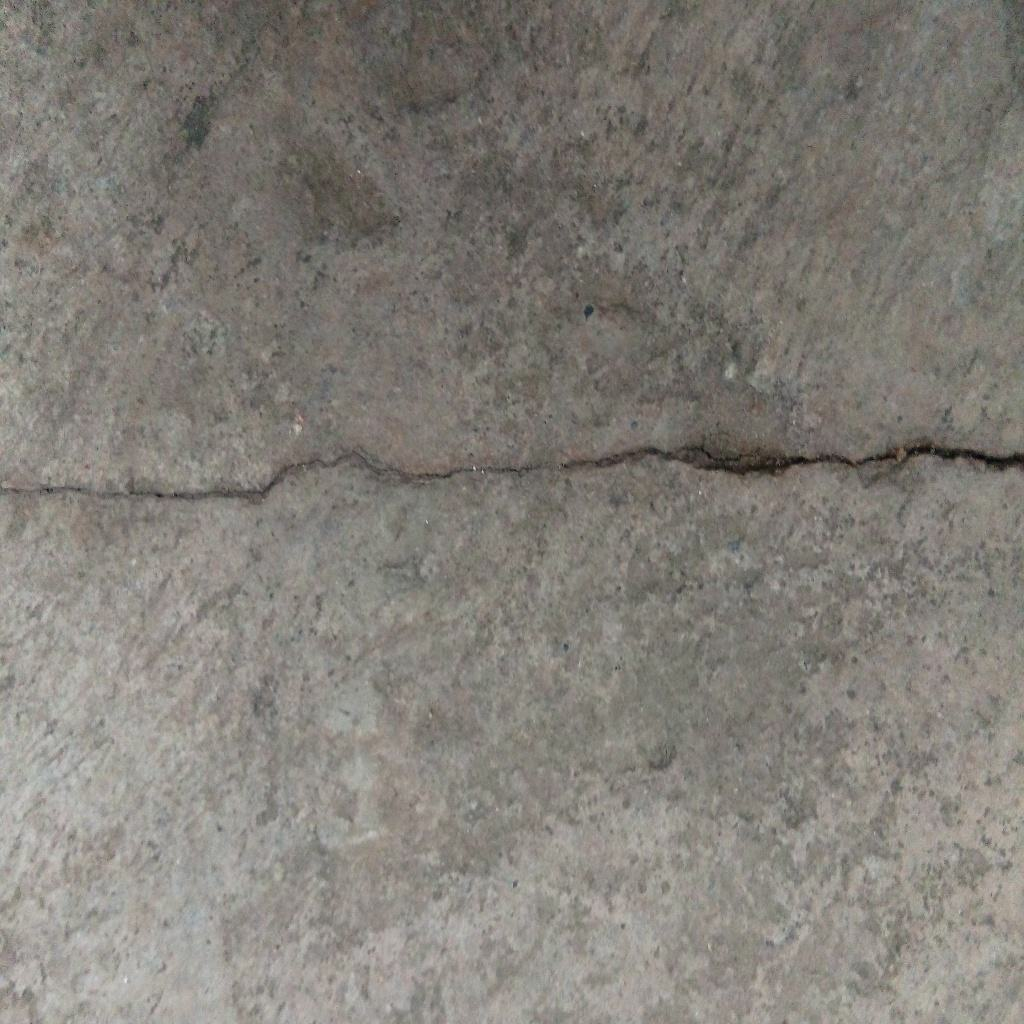Crack: (1, 443, 1024, 509)
